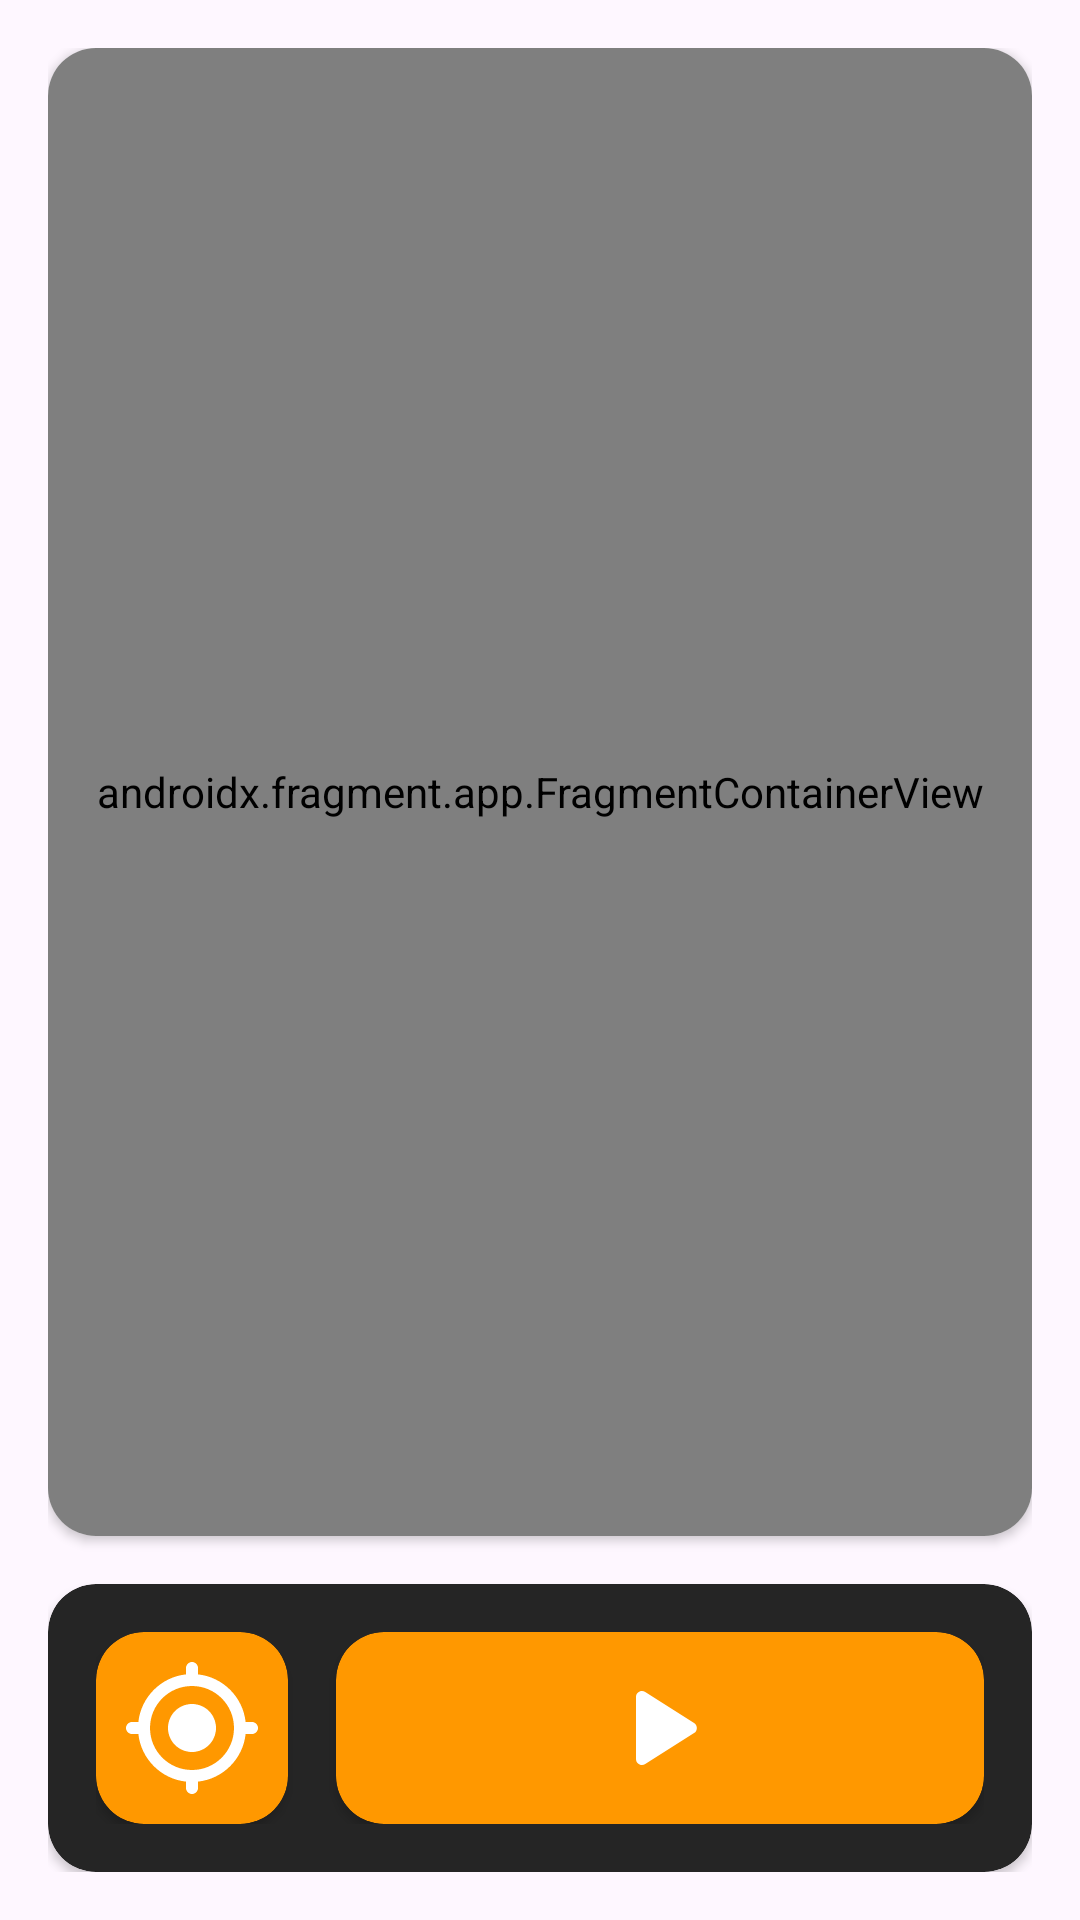

Named icons in this screenshot (1080 × 1920) and their centers, (x=x, y=y):
play: (x=666, y=1728)
